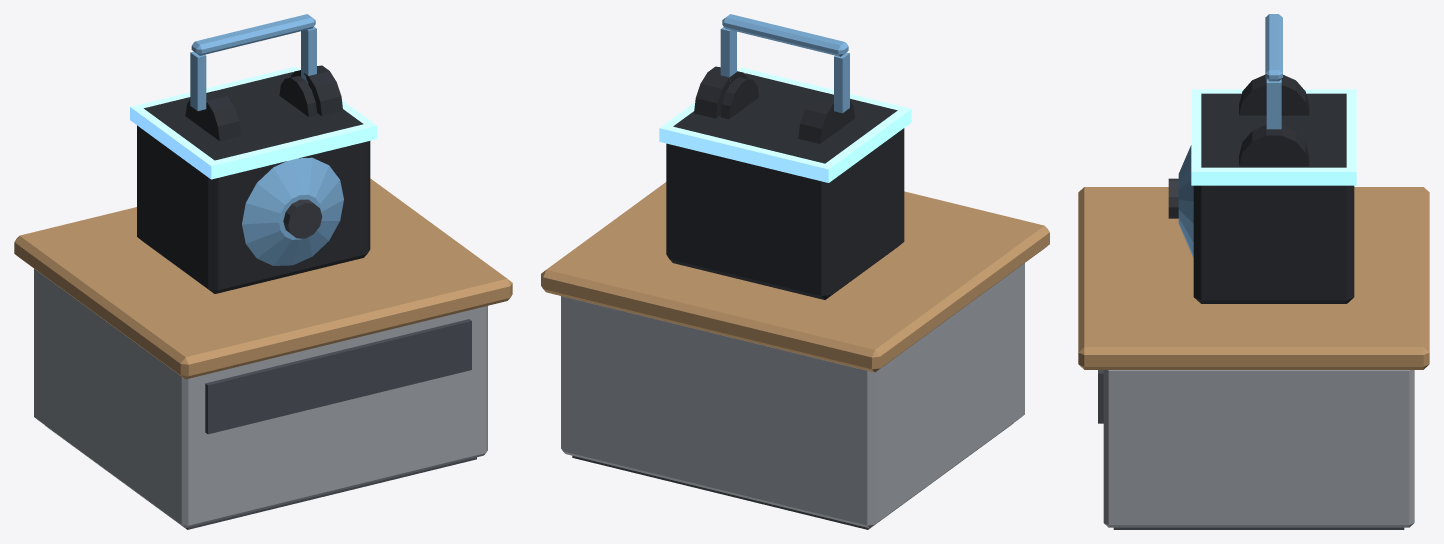
File: headphones_p1_3.glb
The picture shows the model from 3 angles, left to right: view 1: azimuth 30°, elevation 25°; view 2: azimuth 150°, elevation 25°; view 3: azimuth 270°, elevation 25°; orthographic projection. The views are drawn at different scales.
Parts seen in each view (by area): view 1: headphones_p1_3_mesh_Desk, headphones_p1_3_mesh; view 2: headphones_p1_3_mesh_Desk, headphones_p1_3_mesh; view 3: headphones_p1_3_mesh_Desk, headphones_p1_3_mesh.
Part boxes in pixels (bbox=[...]): headphones_p1_3_mesh_Desk: bbox=[14, 178, 512, 529]; headphones_p1_3_mesh: bbox=[130, 14, 377, 293]; headphones_p1_3_mesh_Desk: bbox=[541, 182, 1049, 529]; headphones_p1_3_mesh: bbox=[659, 14, 911, 299]; headphones_p1_3_mesh_Desk: bbox=[1078, 187, 1429, 529]; headphones_p1_3_mesh: bbox=[1168, 14, 1356, 303].
Size of the model in its own units: 0.78 by 0.915 by 0.7.
